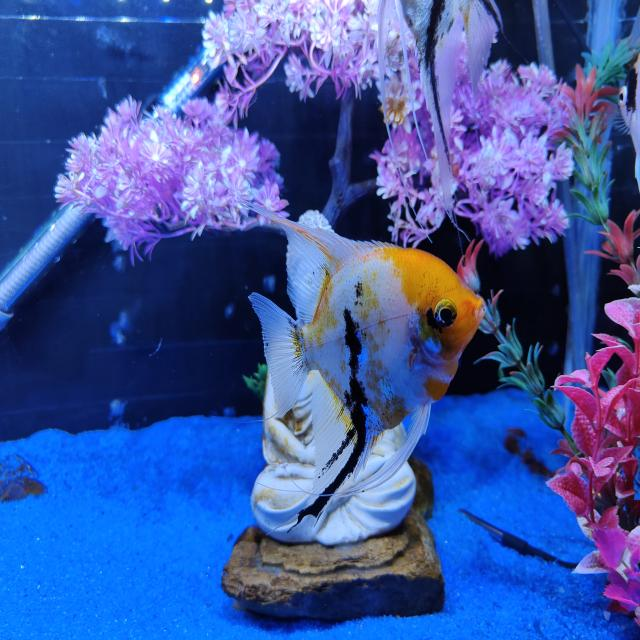Fish: (242, 203, 484, 525), (394, 0, 502, 219), (619, 55, 639, 189)
